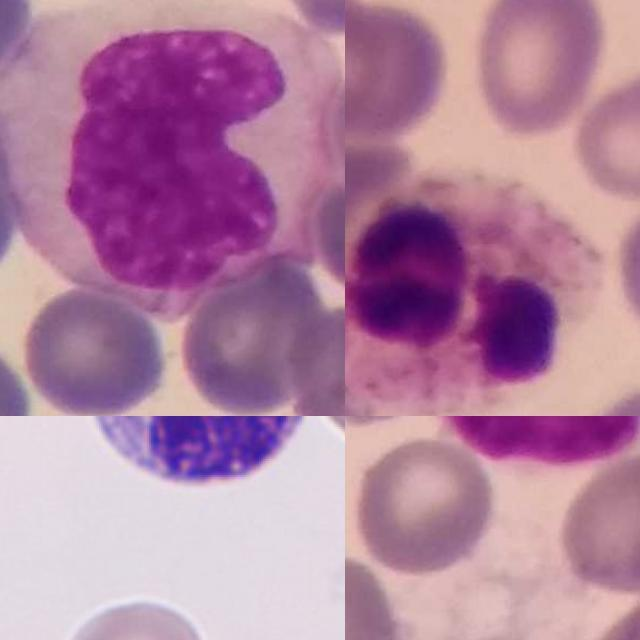Lymphocyte: (69, 416, 328, 503)
Monocyte: (0, 0, 339, 291)
Neutrophil: (345, 175, 605, 416)
RBC: (55, 588, 217, 640)
